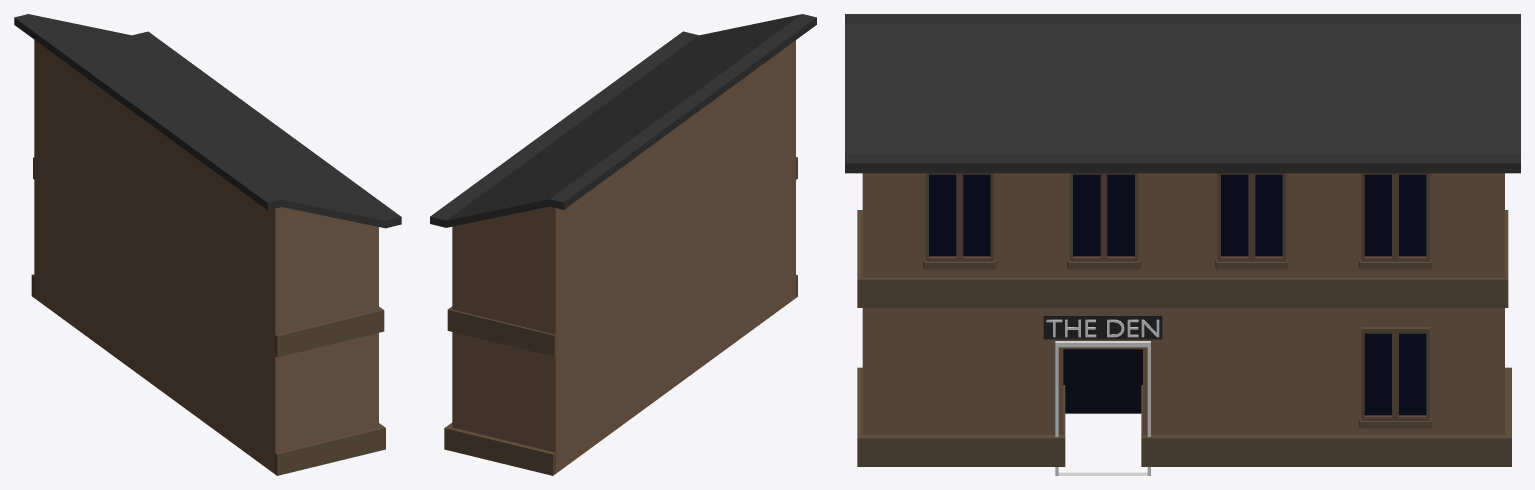
Rendered from club (1).fbx.
3 views of the same model, side by side, from view 1: azimuth 30°, elevation 25°; view 2: azimuth 150°, elevation 25°; view 3: azimuth 270°, elevation 25° (orthographic). The views are drawn at different scales.
Parts seen in each view (by area): view 1: Text; view 2: Text; view 3: Text.
Part boxes in pixels (x1,y1,x2,y2): Text: (14, 14, 401, 475); Text: (430, 14, 816, 475); Text: (845, 14, 1520, 475).
Size of the model in its own units: 1564 by 979 by 701.
